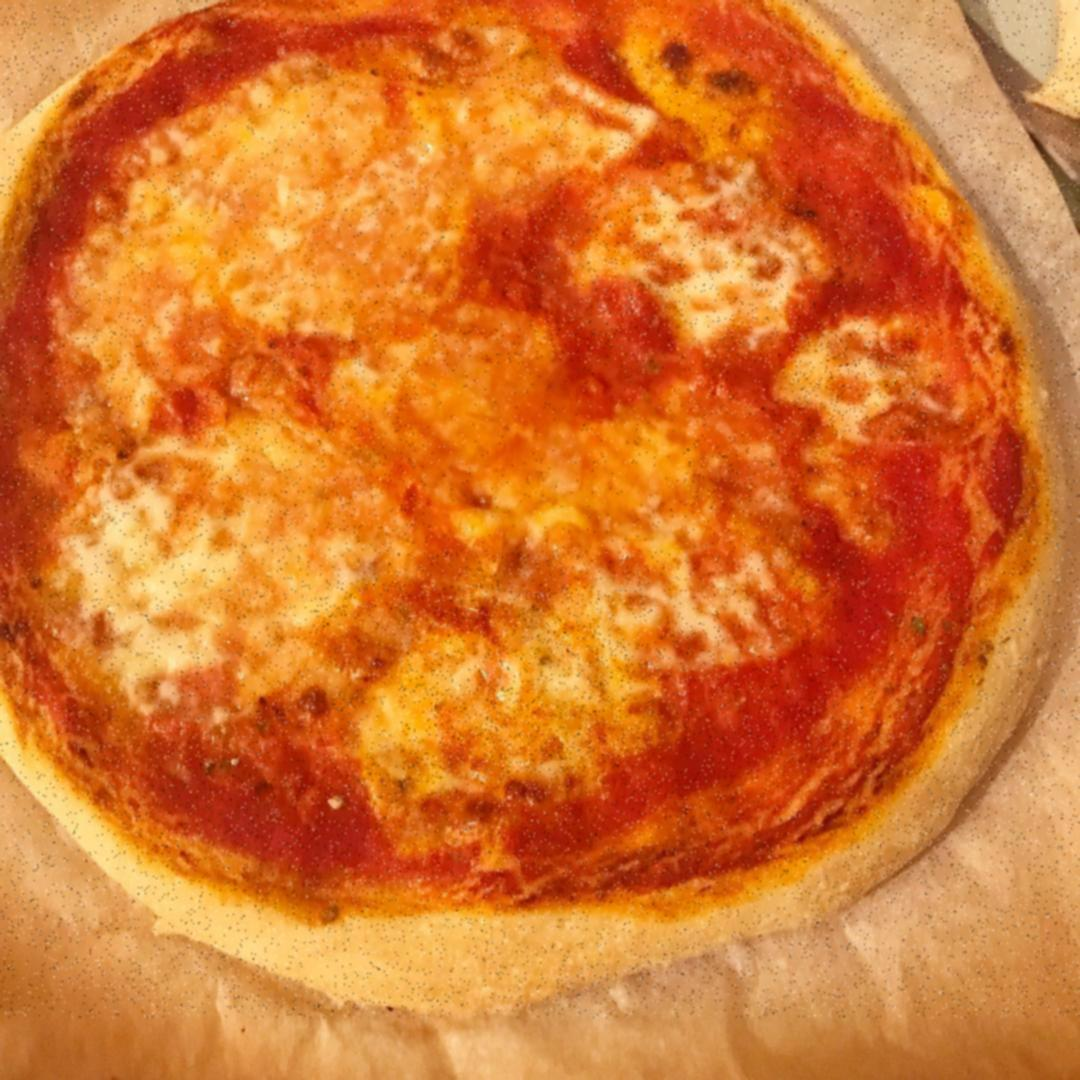Cheese: (151, 90, 533, 327), (417, 363, 685, 550), (105, 464, 342, 648), (399, 585, 626, 770), (589, 205, 818, 342), (793, 330, 918, 432)
Pizza: (0, 0, 1080, 1018)
